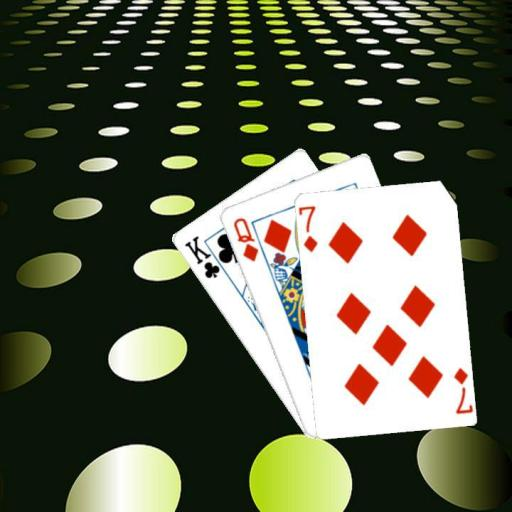7D: (297, 202, 319, 254), (450, 364, 472, 415)
KC: (181, 233, 230, 280)
QD: (230, 214, 260, 263)
